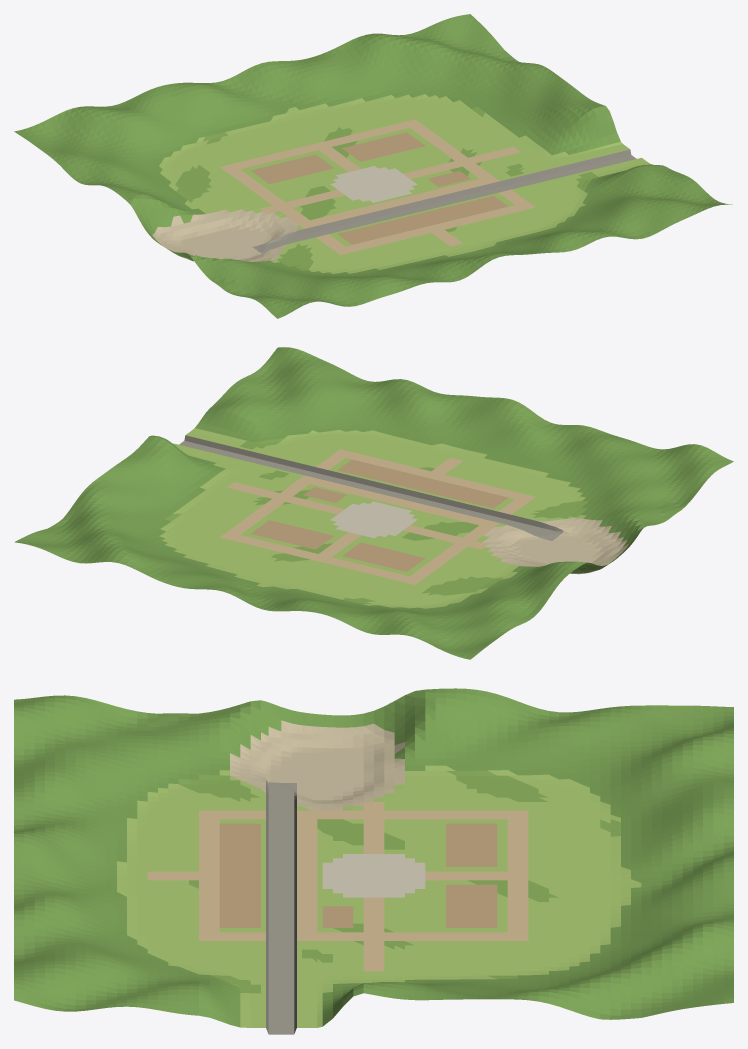
The model's file is terrain_town.glb.
3 renders of one model, top to bottom at view 1: azimuth 30°, elevation 25°; view 2: azimuth 150°, elevation 25°; view 3: azimuth 270°, elevation 25°, orthographic. The views are drawn at different scales.
Parts seen in each view (by area): view 1: terrain_town; view 2: terrain_town; view 3: terrain_town.
Part boxes in pixels (x1,y1,x2,y2): terrain_town: [14, 14, 732, 318]; terrain_town: [14, 347, 733, 659]; terrain_town: [14, 688, 733, 1034].
Bounding box in the file's own units: 140 × 9.25 × 140.
